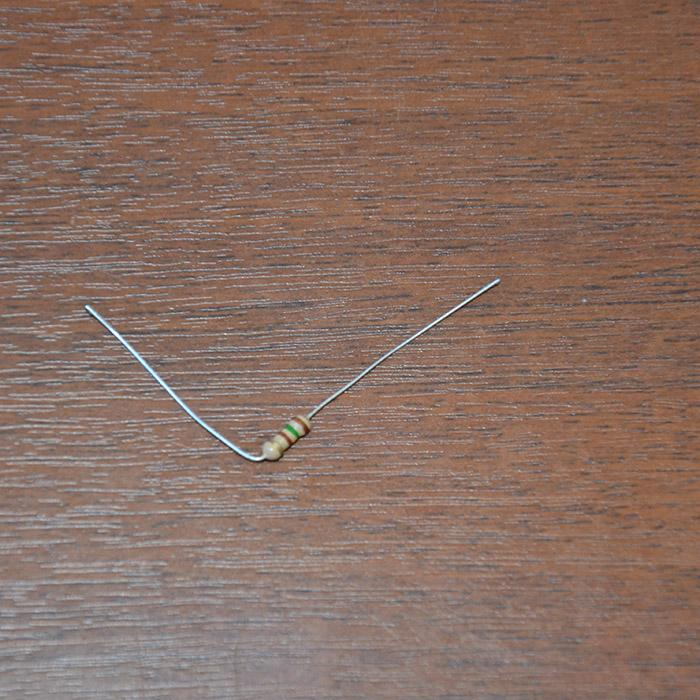resistor: (262, 413, 311, 460)
